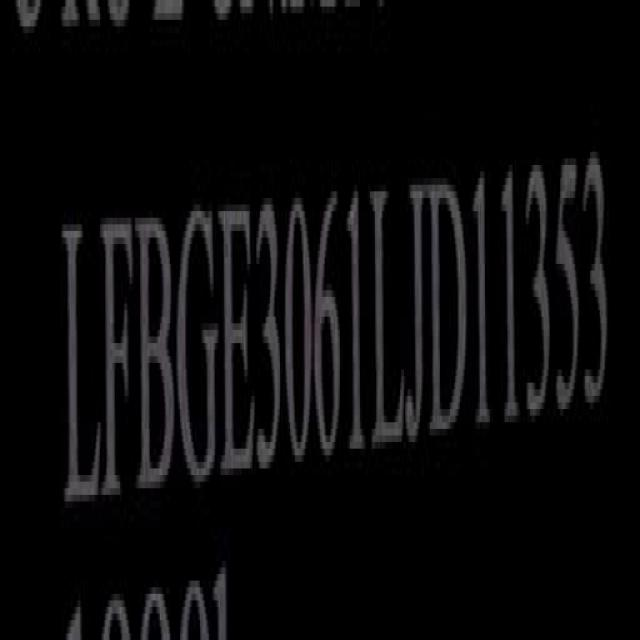0: (287, 193, 315, 475)
1: (348, 183, 370, 467), (470, 165, 492, 444), (500, 160, 520, 436)
3: (254, 196, 284, 482), (526, 163, 554, 432), (584, 149, 610, 415)
5: (554, 154, 580, 429)
6: (312, 186, 343, 472)
B: (137, 212, 175, 503)
D: (430, 174, 468, 454)
E: (220, 197, 256, 490)
F: (101, 207, 137, 508)
G: (180, 204, 222, 499)
J: (405, 176, 431, 450)
L: (62, 208, 102, 520), (370, 180, 403, 469)
